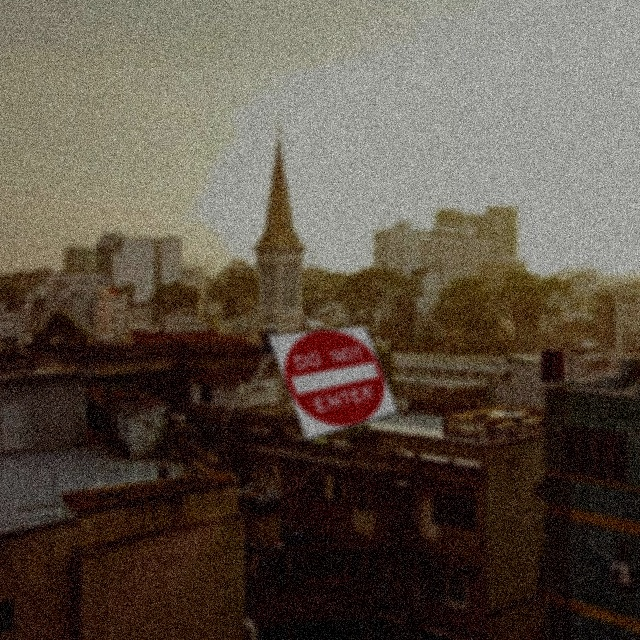DO_NOT_ENTER: (267, 325, 399, 441)
